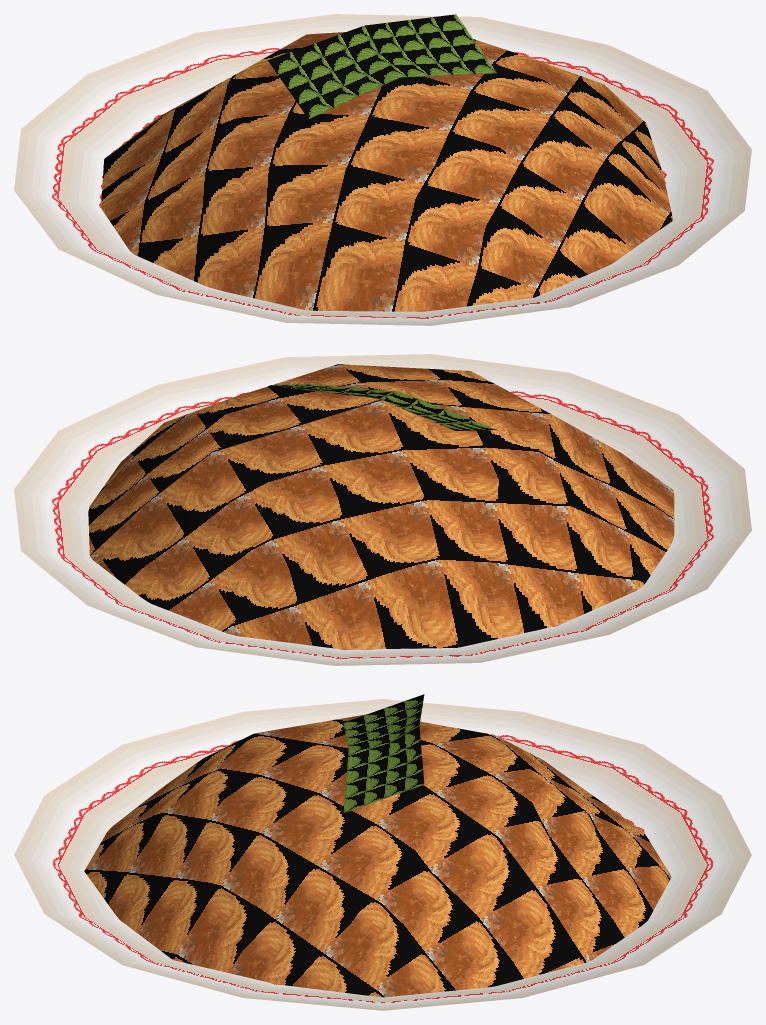
The model's file is pasta_b.gltf.
3 renders of one model, top to bottom at view 1: azimuth 30°, elevation 25°; view 2: azimuth 150°, elevation 25°; view 3: azimuth 270°, elevation 25°, orthographic.
Parts seen in each view (by area): view 1: pasta_b; view 2: pasta_b; view 3: pasta_b.
Boxes of the visible parts, x1,y1,x2,y2 form: pasta_b: (14,14,751,325); pasta_b: (14,354,751,665); pasta_b: (14,694,751,1010).
Bounding box in the file's own units: 0.8994 × 0.2891 × 0.8994.
Materials: 3 (3 with a texture image).
